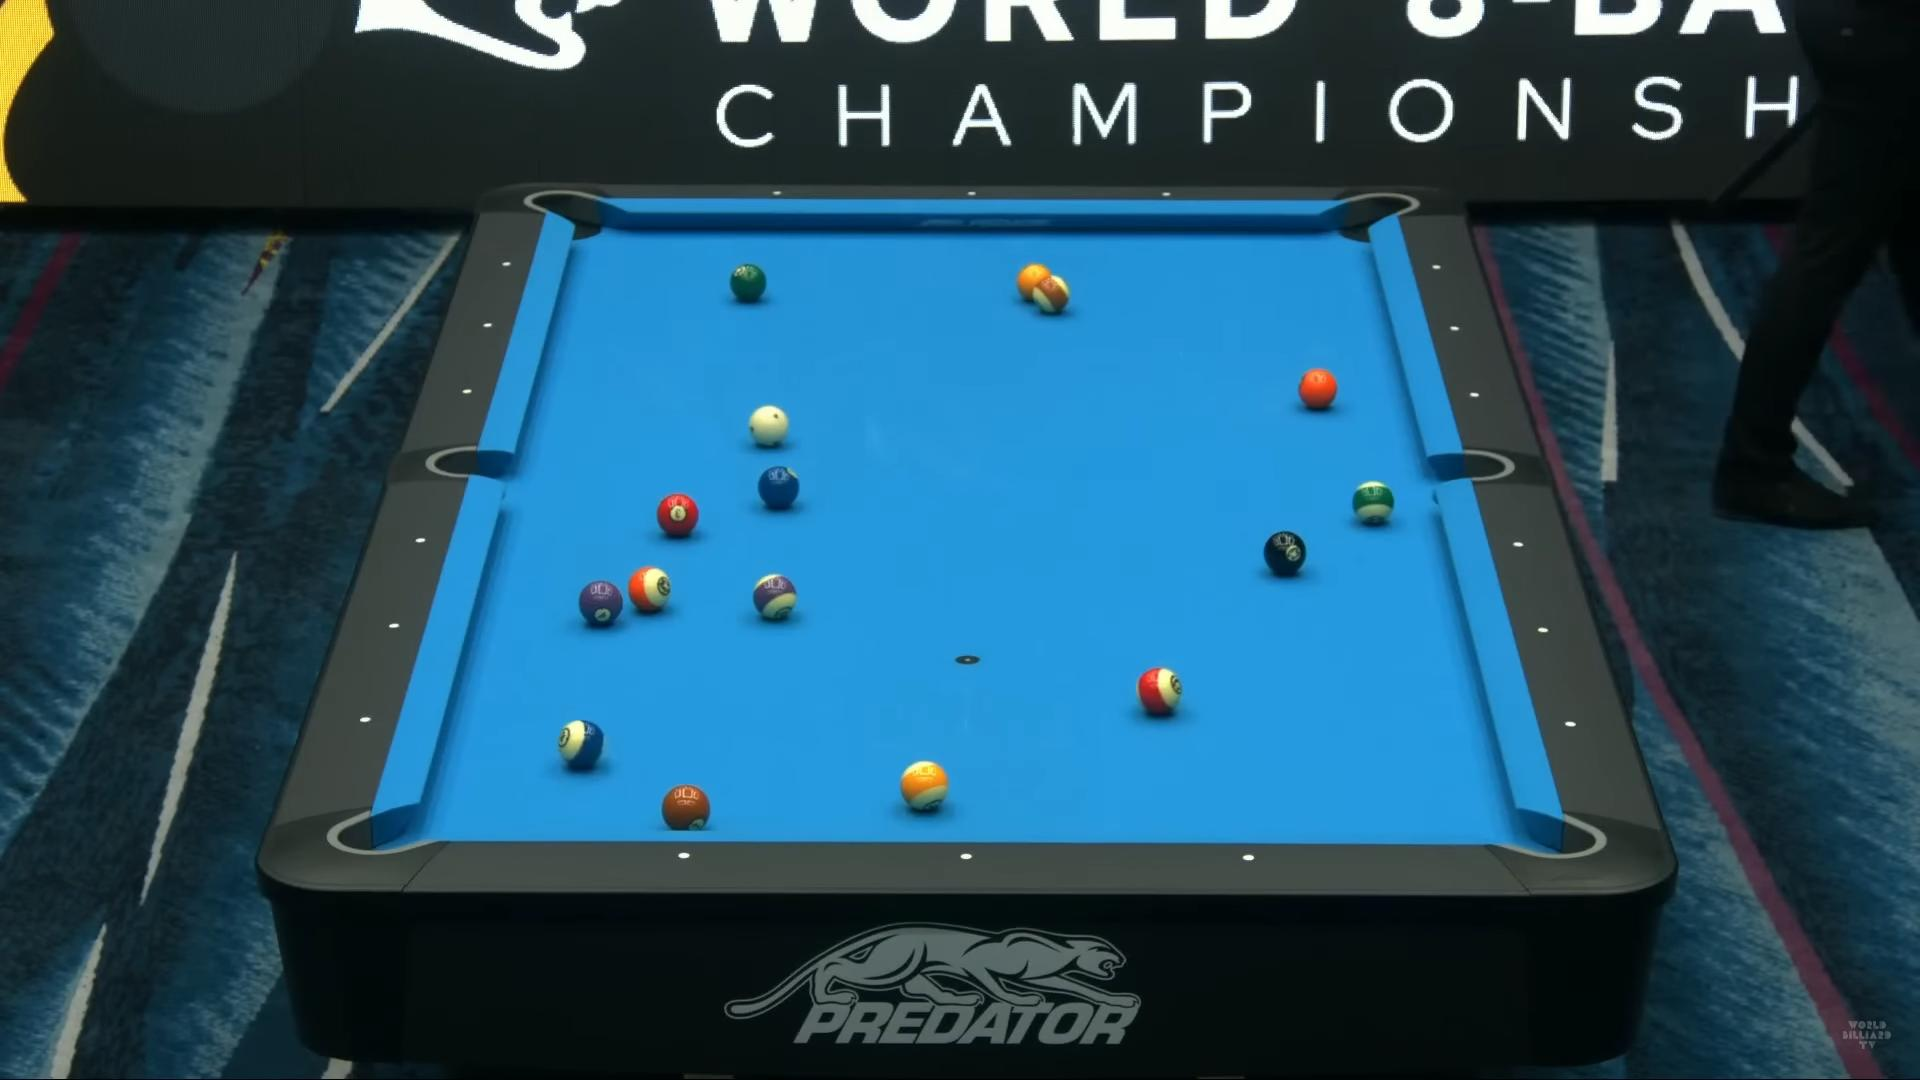Black: (1263, 531, 1307, 572)
Cue: (749, 405, 790, 446)
Dot: (460, 384, 475, 398), (480, 318, 495, 332), (500, 257, 514, 272), (964, 186, 978, 200), (1448, 322, 1462, 336), (1535, 621, 1549, 636), (388, 618, 402, 632), (414, 534, 429, 547), (770, 186, 785, 199), (1159, 187, 1174, 200), (1468, 388, 1481, 402), (1563, 717, 1577, 731), (1241, 851, 1254, 865), (676, 848, 690, 862), (359, 713, 372, 727), (1429, 260, 1443, 273), (1511, 538, 1524, 551), (959, 849, 972, 862)
Solid: (663, 785, 709, 831), (579, 580, 624, 624), (657, 493, 699, 535), (758, 465, 800, 506), (1299, 369, 1338, 407), (729, 264, 766, 302), (1017, 264, 1052, 298)
Striped: (899, 762, 949, 812), (1135, 667, 1182, 715), (558, 720, 604, 767), (629, 567, 673, 612), (754, 575, 798, 618), (1353, 480, 1395, 522), (1033, 276, 1072, 313)
